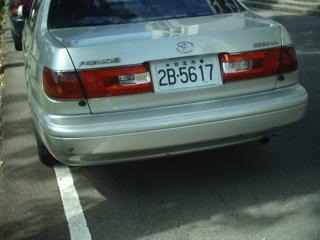plate: (153, 56, 215, 90)
